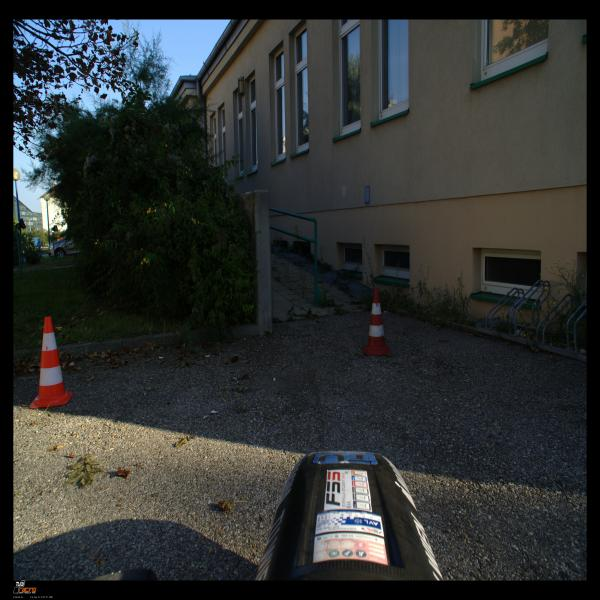large_orange_cone: (29, 316, 73, 408), (362, 288, 391, 356)
